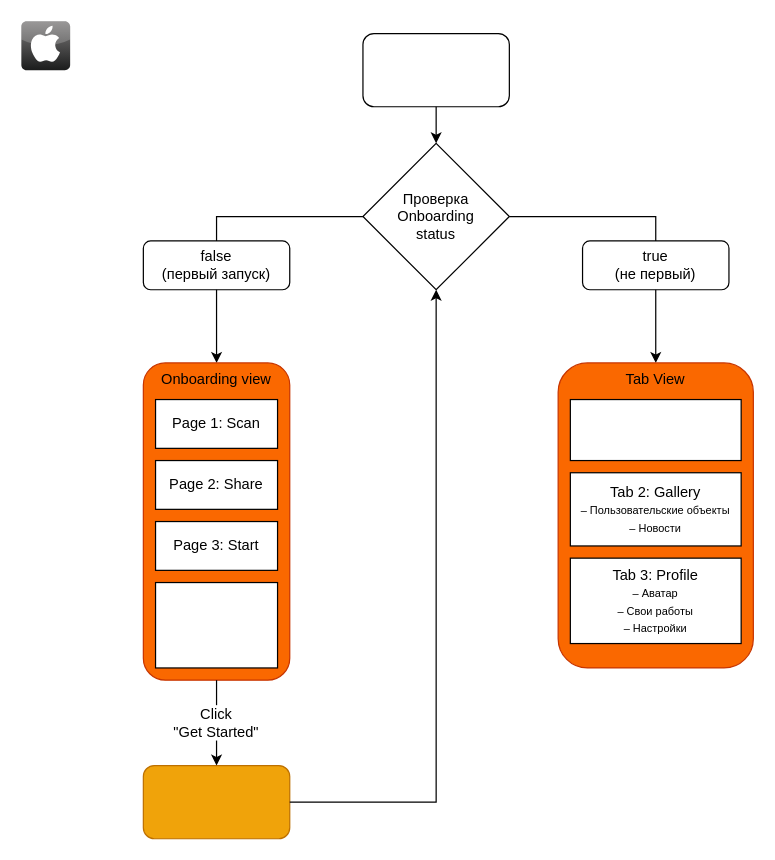
This 775x860 diagram has some shape labels left out. Here are the shapes that lost their labels. From the top down, the centre of each, then its label:
the point at 435,69: Launch Screen
the point at 655,429: Tab 1: Scan – Начало съемки объекта
the point at 216,624: Навигация: - Далее/Назад - Пропустить - Индикаторы
the point at 216,801: Save UserDefaults didFinish = true
